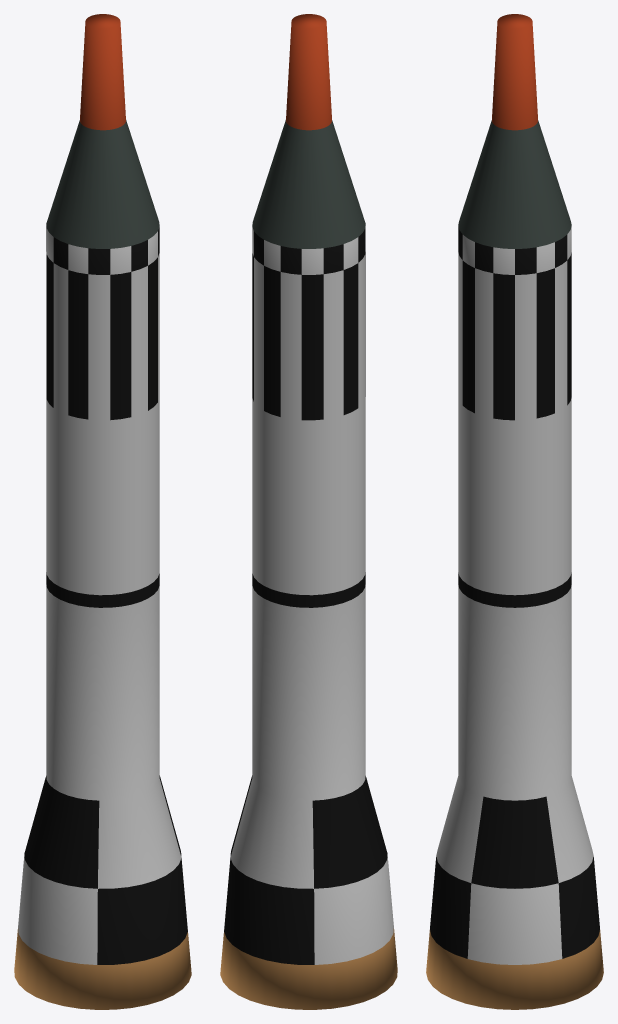
Rendered from spaceShip.glb.
3 renders of one model, left to right at view 1: azimuth 30°, elevation 25°; view 2: azimuth 150°, elevation 25°; view 3: azimuth 270°, elevation 25°, orthographic.
Visible parts, largest first — view 1: firstSpaceship; view 2: firstSpaceship; view 3: firstSpaceship.
Part boxes in pixels (box(x1,y1,x2,y2)): firstSpaceship: box(14, 14, 191, 1009); firstSpaceship: box(220, 14, 397, 1009); firstSpaceship: box(426, 14, 603, 1009).
Bounding box in the file's own units: 0.9632 × 5.68 × 0.9632.
